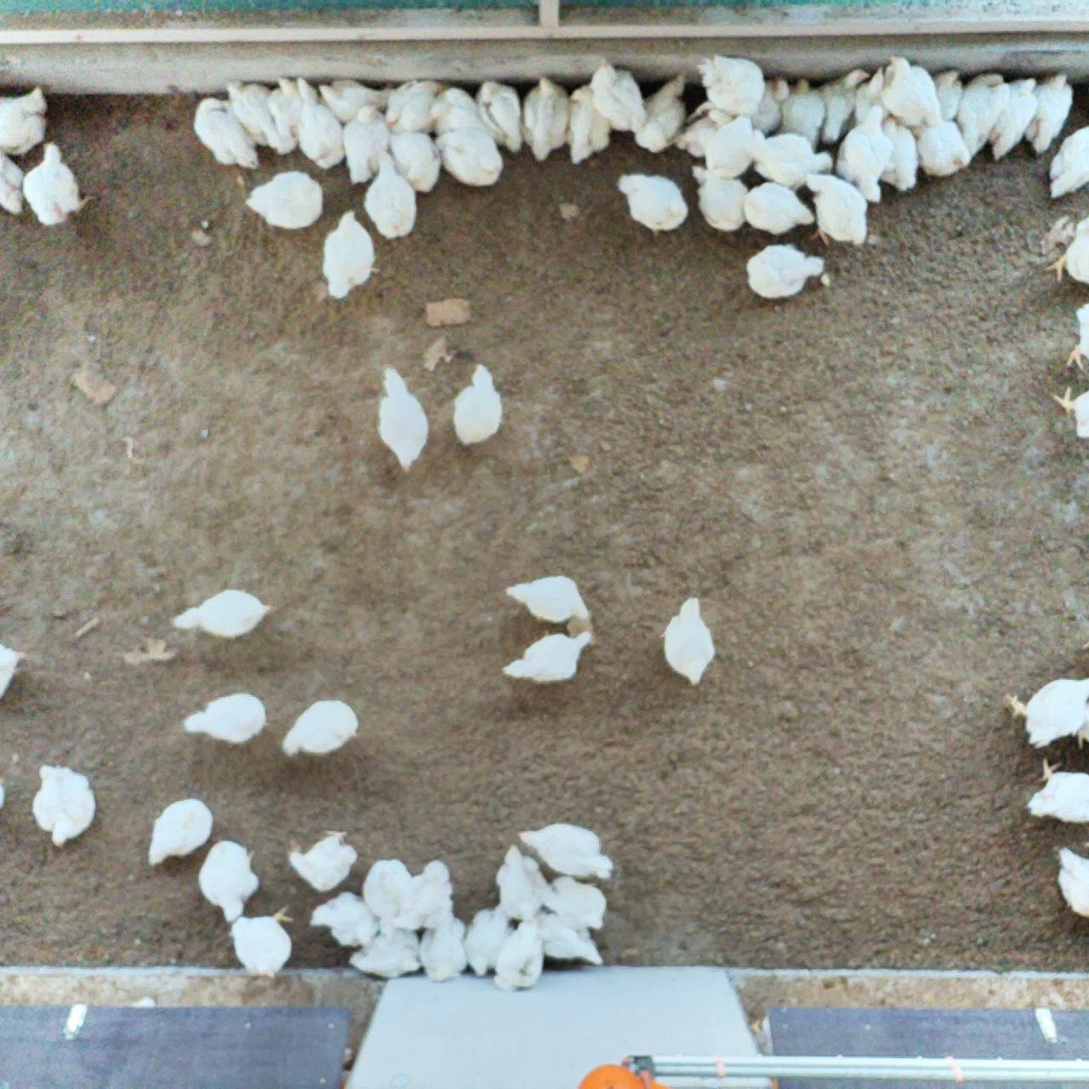chicken: (21, 141, 98, 230), (1001, 673, 1089, 750), (30, 760, 100, 854), (168, 586, 278, 644), (376, 364, 432, 476), (835, 103, 896, 204), (514, 821, 616, 881), (740, 128, 834, 193), (658, 593, 718, 690), (321, 207, 383, 300), (227, 901, 296, 982), (802, 168, 870, 250), (279, 697, 361, 764), (361, 147, 419, 241), (501, 627, 593, 686), (192, 96, 263, 172), (242, 169, 326, 233), (196, 839, 260, 923), (178, 689, 269, 747), (742, 241, 828, 302), (283, 826, 360, 894), (145, 795, 216, 868), (614, 171, 689, 240), (502, 572, 593, 627), (307, 888, 383, 953), (531, 875, 611, 936), (633, 70, 690, 155), (451, 362, 506, 450), (1021, 70, 1078, 154), (880, 53, 944, 127), (694, 51, 768, 115), (520, 73, 572, 164), (1023, 754, 1089, 825), (392, 858, 455, 932), (956, 69, 1007, 160), (589, 57, 649, 134), (435, 126, 506, 191), (687, 162, 751, 234), (989, 74, 1040, 163), (532, 909, 607, 969), (817, 66, 872, 147), (340, 103, 394, 185), (496, 845, 552, 922), (361, 857, 415, 936), (742, 180, 815, 237), (346, 927, 423, 981), (224, 76, 280, 150), (463, 901, 516, 978), (493, 918, 545, 996), (386, 125, 443, 194), (569, 81, 615, 166), (294, 96, 346, 171), (673, 97, 735, 159), (474, 78, 523, 156), (384, 79, 449, 137), (0, 83, 50, 158), (914, 118, 973, 181), (316, 76, 392, 124), (426, 84, 495, 136), (418, 914, 469, 984), (1042, 215, 1089, 288), (1046, 123, 1089, 202), (778, 75, 826, 144), (880, 112, 920, 194), (265, 71, 303, 157), (1052, 844, 1089, 925), (852, 65, 892, 128), (750, 75, 792, 135), (1048, 384, 1089, 441), (0, 641, 31, 706), (1063, 299, 1089, 374), (933, 67, 966, 121), (0, 152, 27, 218), (293, 75, 335, 111)
